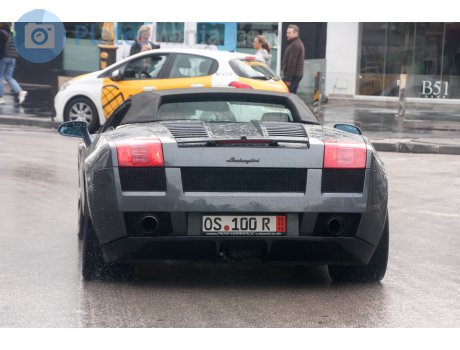License Plates: (202, 218, 273, 230)
